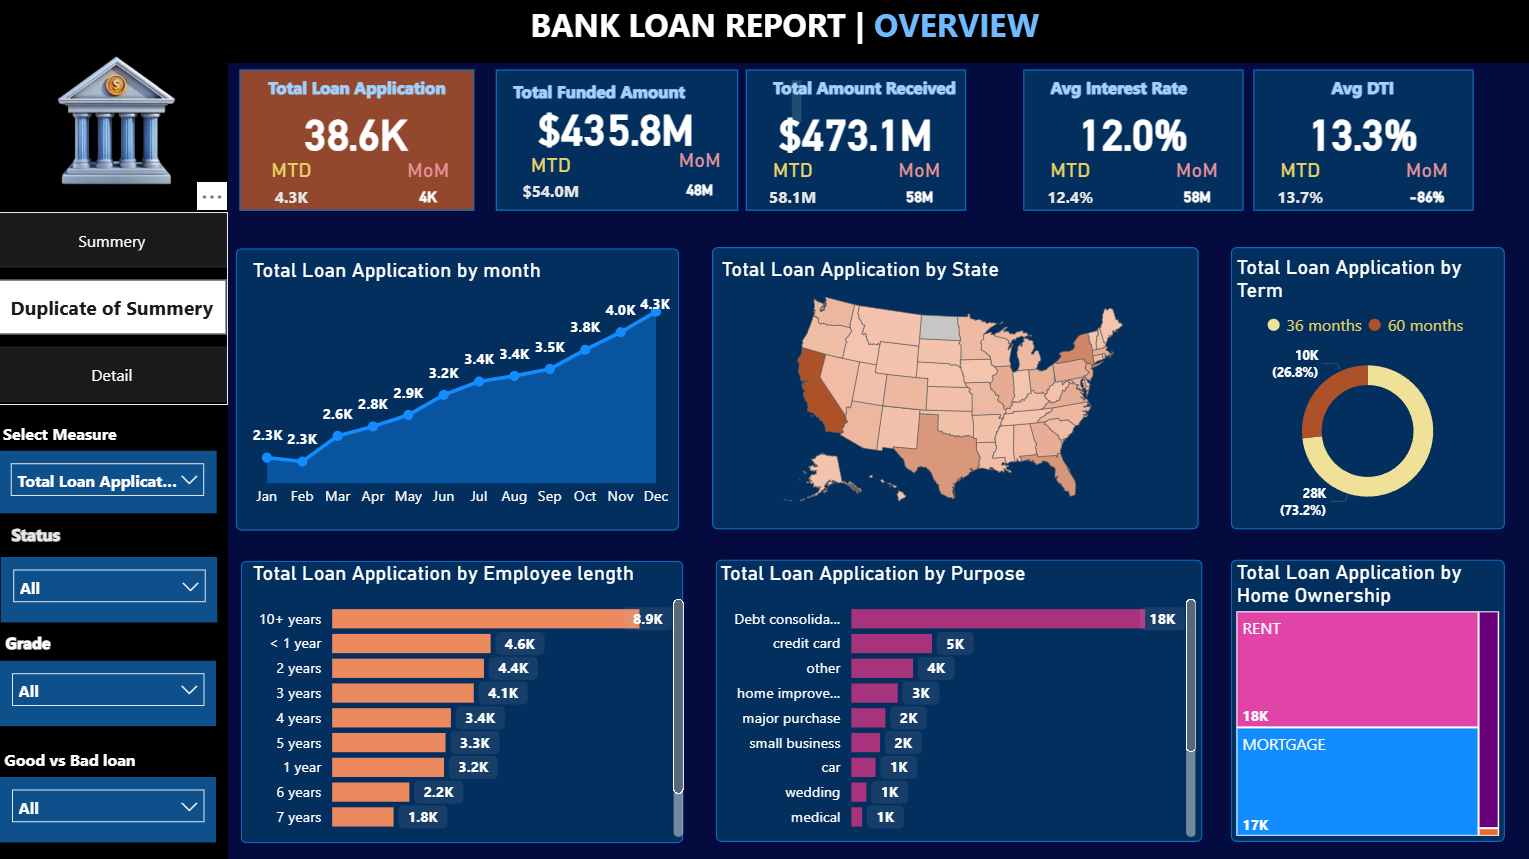

Layout of this report page (visuals, bound fields, positions):
{"tool":"powerbi","page":{"name":"Duplicate of Summery","canvas":[1280,720],"ordinal":1},"visuals":[{"type":"shape","box":[0,0,1280.2,55],"z":0},{"type":"shape","box":[414.7,60.3,201.6,117.4],"z":1000},{"type":"card","fields":{"Values":["financial_loan.Total funded amount"]},"box":[394.9,84.4,239.5,45.3],"z":1000,"group":"g2"},{"type":"textbox","box":[438.4,0,446.5,54.7],"z":2000},{"type":"textbox","box":[424,64.1,250,45.3],"z":2000,"group":"g2"},{"type":"group","id":"g1","title":"Group 1","box":[194.3,60.3,244.2,123.7],"z":3000},{"type":"shape","box":[201.3,60.3,195.3,117.4],"z":3000,"group":"g1"},{"type":"shape","box":[853.5,60.3,183.3,117.4],"z":3000,"group":"g4"},{"type":"shape","box":[622.3,60.5,183.3,117.4],"z":3000,"group":"g3"},{"type":"shape","box":[1044.9,60.5,183.3,117.4],"z":3000,"group":"g5"},{"type":"card","title":"MTD","fields":{"Values":["financial_loan.MTD funded amount"]},"box":[420.2,129.8,81.4,46.5],"z":3000,"group":"g2"},{"type":"group","id":"g2","title":"Group 1","box":[394.9,64.1,279.1,115],"z":4000},{"type":"card","fields":{"Values":["financial_loan.Total Loan Application"]},"box":[194.3,87,208.1,50],"z":4000,"group":"g1"},{"type":"card","fields":{"Values":["financial_loan.AVG interest rate"]},"box":[847,87,195.3,50],"z":4000,"group":"g4"},{"type":"card","fields":{"Values":["financial_loan.Total amount recevied"]},"box":[615.8,87.2,195.3,50],"z":4000,"group":"g3"},{"type":"card","fields":{"Values":["financial_loan.AVG DTI"]},"box":[1038.4,87.2,195.3,50],"z":4000,"group":"g5"},{"type":"card","title":"MoM","fields":{"Values":["financial_loan.PMTD funded amount"]},"box":[547.5,125.6,73.3,53.5],"z":4000,"group":"g2"},{"type":"textbox","box":[219.9,60.3,218.6,81.4],"z":5000,"group":"g1"},{"type":"textbox","box":[871,60.3,205.1,81.4],"z":5000,"group":"g4"},{"type":"group","id":"g3","title":"Group 1","box":[615.8,60.5,227.9,123.3],"z":5000},{"type":"textbox","box":[639.8,60.5,205.1,81.4],"z":5000,"group":"g3"},{"type":"textbox","box":[1062.4,60.5,205.1,81.4],"z":5000,"group":"g5"},{"type":"group","id":"g4","title":"Group 1","box":[847,60.3,227.6,123.7],"z":6000},{"type":"card","title":"MTD","fields":{"Values":["financial_loan.MTD Loan Application"]},"box":[210.3,133.8,70,43.9],"z":6000,"group":"g1"},{"type":"card","title":"MTD","fields":{"Values":["financial_loan.MTD AVg interest rate"]},"box":[860,133.8,65.9,43.9],"z":6000,"group":"g4"},{"type":"card","title":"MTD","fields":{"Values":["financial_loan.MTD total amount recieved"]},"box":[628.8,134,65.9,43.9],"z":6000,"group":"g3"},{"type":"card","title":"MTD","fields":{"Values":["financial_loan.MTD AVG DTI"]},"box":[1051.4,134,65.9,43.9],"z":6000,"group":"g5"},{"type":"group","id":"g5","title":"Group 1","box":[1038.4,60.5,227.9,123.3],"z":7000},{"type":"card","title":"MoM","fields":{"Values":["financial_loan.MoM loan application"]},"box":[324.1,133.8,68.6,49.4],"z":7000,"group":"g1"},{"type":"card","title":"MoM","fields":{"Values":["financial_loan.MoM total amount recieved"]},"box":[965.6,133.8,64.5,49.4],"z":7000,"group":"g4"},{"type":"card","title":"MoM","fields":{"Values":["financial_loan.MoM total amount recieved"]},"box":[734.4,134,64.5,49.4],"z":7000,"group":"g3"},{"type":"card","title":"MoM","fields":{"Values":["financial_loan.MoM AVG DTI"]},"box":[1157,134,64.5,49.4],"z":7000,"group":"g5"},{"type":"shape","box":[0,54.7,191.9,665.1],"z":8000},{"type":"slicer","fields":{"Values":["financial_loan.address_state"]},"box":[3.5,465.1,180.2,54.7],"z":9000},{"type":"textbox","box":[3.5,432.6,67.4,29.1],"z":10000},{"type":"slicer","fields":{"Values":["financial_loan.grade"]},"box":[2.3,551.8,180.2,54.7],"z":11000},{"type":"textbox","box":[2.3,522.7,67.4,29.1],"z":12000},{"type":"slicer","fields":{"Values":["financial_loan.Good vs Bad loan"]},"box":[2.3,649,180.2,54.7],"z":13000},{"type":"textbox","box":[1.2,619.9,141.9,29.1],"z":14000},{"type":"shape","box":[198.8,209.3,368.6,234.9],"z":15000},{"type":"areaChart","title":"Total Loan Application by month","fields":{"Y":["financial_loan.Total Loan Application"],"Category":["Date Table.Month"]},"box":[208.1,217.4,357,216.3],"z":16000},{"type":"slicer","fields":{"Values":["Select Measure.Select Measure"]},"box":[1.2,376.7,181.4,52.3],"z":17000},{"type":"textbox","box":[0,300,141.9,34.9],"z":18000},{"type":"shape","box":[594,208.1,404.7,234.9],"z":19000},{"type":"shapeMap","fields":{"Value":["financial_loan.Total Loan Application"],"Category":["financial_loan.address_state"]},"box":[597.7,216.3,395.3,217.4],"z":20000},{"type":"shape","box":[1025.6,208.1,227.9,234.9],"z":21000},{"type":"donutChart","fields":{"Y":["financial_loan.Total Loan Application"],"Category":["financial_loan.term"]},"box":[1025.6,214,227.9,225.6],"z":22000},{"type":"shape","box":[202.7,468.7,367.9,234.9],"z":23000},{"type":"barChart","fields":{"Y":["financial_loan.Total Loan Application"],"Category":["financial_loan.emp_length"]},"box":[207.9,468.7,367.9,234.9],"z":24000},{"type":"shape","box":[597.7,467.4,404.7,234.9],"z":25000},{"type":"barChart","fields":{"Y":["financial_loan.Total Loan Application"],"Category":["financial_loan.purpose"]},"box":[596.5,468.7,405.3,234.9],"z":26000},{"type":"shape","box":[1025.6,467.4,227.9,234.9],"z":27000},{"type":"treemap","fields":{"Values":["financial_loan.Total Loan Application"],"Group":["financial_loan.home_ownership"]},"box":[1025.6,467.4,227.9,234.9],"z":28000},{"type":"pageNavigator","box":[0,179.1,191.9,159.3],"z":29000},{"type":"image","box":[0,0,198.8,205.8],"z":30000},{"type":"textbox","box":[0,348.8,167.4,27.9],"z":31000}]}

Visuals, with their boxes on the page's 1280x720 design canvas (x1, y1, x2, y2). These are canvas units, not pixel positions in the 1529x859 screenshot, which may show the page scaled, cropped or inside an application window:
shape: box(0, 0, 1280, 55)
shape: box(415, 60, 616, 178)
card - financial_loan.Total funded amount: box(395, 84, 634, 130)
textbox: box(438, 0, 885, 55)
textbox: box(424, 64, 674, 109)
"Group 1" group: box(194, 60, 438, 184)
shape: box(201, 60, 397, 178)
shape: box(854, 60, 1037, 178)
shape: box(622, 60, 806, 178)
shape: box(1045, 60, 1228, 178)
"MTD" card: box(420, 130, 502, 176)
"Group 1" group: box(395, 64, 674, 179)
card - financial_loan.Total Loan Application: box(194, 87, 402, 137)
card - financial_loan.AVG interest rate: box(847, 87, 1042, 137)
card - financial_loan.Total amount recevied: box(616, 87, 811, 137)
card - financial_loan.AVG DTI: box(1038, 87, 1234, 137)
"MoM" card: box(548, 126, 621, 179)
textbox: box(220, 60, 438, 142)
textbox: box(871, 60, 1076, 142)
"Group 1" group: box(616, 60, 844, 184)
textbox: box(640, 60, 845, 142)
textbox: box(1062, 60, 1268, 142)
"Group 1" group: box(847, 60, 1075, 184)
"MTD" card: box(210, 134, 280, 178)
"MTD" card: box(860, 134, 926, 178)
"MTD" card: box(629, 134, 695, 178)
"MTD" card: box(1051, 134, 1117, 178)
"Group 1" group: box(1038, 60, 1266, 184)
"MoM" card: box(324, 134, 393, 183)
"MoM" card: box(966, 134, 1030, 183)
"MoM" card: box(734, 134, 799, 183)
"MoM" card: box(1157, 134, 1222, 183)
shape: box(0, 55, 192, 720)
slicer - financial_loan.address_state: box(4, 465, 184, 520)
textbox: box(4, 433, 71, 462)
slicer - financial_loan.grade: box(2, 552, 182, 606)
textbox: box(2, 523, 70, 552)
slicer - financial_loan.Good vs Bad loan: box(2, 649, 182, 704)
textbox: box(1, 620, 143, 649)
shape: box(199, 209, 567, 444)
"Total Loan Application by month" areaChart: box(208, 217, 565, 434)
slicer - Select Measure.Select Measure: box(1, 377, 183, 429)
textbox: box(0, 300, 142, 335)
shape: box(594, 208, 999, 443)
shapeMap - financial_loan.Total Loan Application x financial_loan.address_state: box(598, 216, 993, 434)
shape: box(1026, 208, 1254, 443)
donutChart - financial_loan.Total Loan Application x financial_loan.term: box(1026, 214, 1254, 440)
shape: box(203, 469, 571, 704)
barChart - financial_loan.Total Loan Application x financial_loan.emp_length: box(208, 469, 576, 704)
shape: box(598, 467, 1002, 702)
barChart - financial_loan.Total Loan Application x financial_loan.purpose: box(596, 469, 1002, 704)
shape: box(1026, 467, 1254, 702)
treemap - financial_loan.Total Loan Application x financial_loan.home_ownership: box(1026, 467, 1254, 702)
pageNavigator: box(0, 179, 192, 338)
image: box(0, 0, 199, 206)
textbox: box(0, 349, 167, 377)
